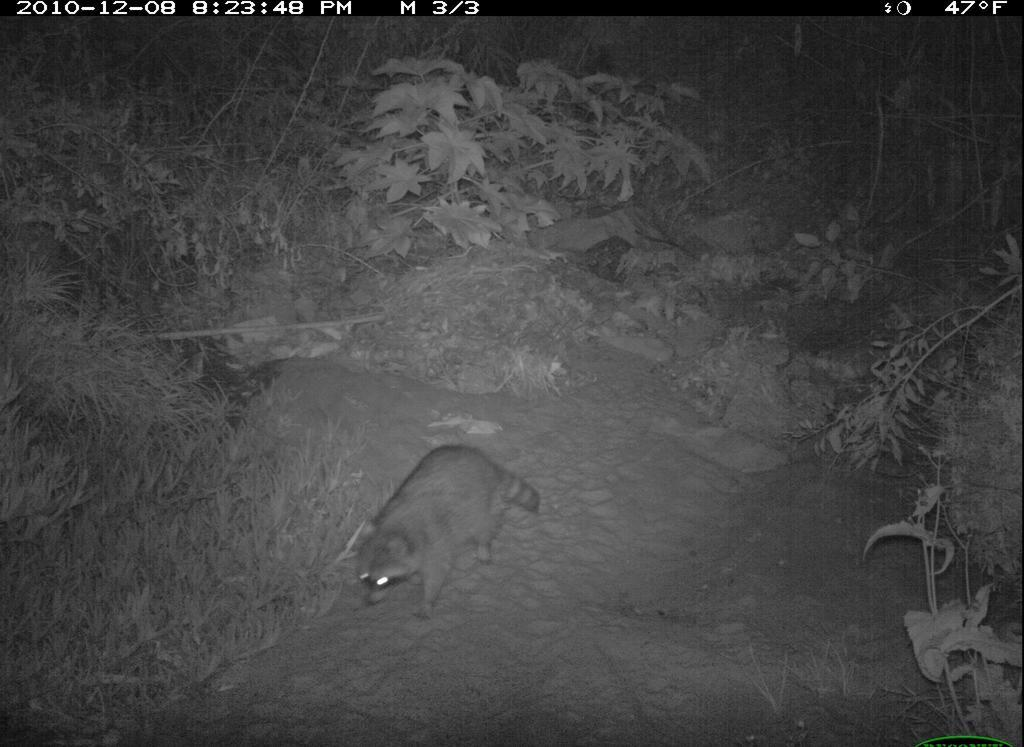raccoon: (351, 418, 568, 633)
